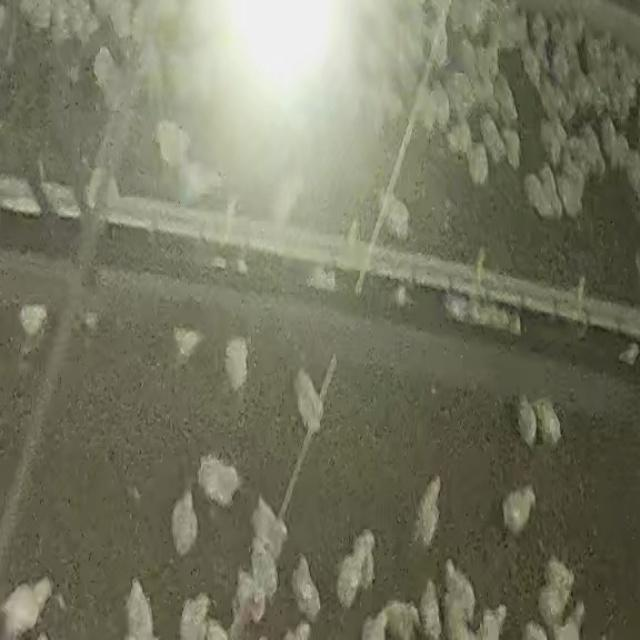chicken: (334, 530, 376, 610), (2, 576, 54, 638), (193, 453, 247, 509), (440, 560, 478, 636), (231, 564, 268, 632), (287, 370, 329, 428), (414, 473, 447, 543), (419, 5, 453, 72), (290, 554, 323, 622), (171, 482, 200, 558), (180, 158, 225, 205), (251, 494, 287, 552), (124, 580, 158, 640), (0, 171, 43, 218), (446, 0, 495, 40), (154, 119, 192, 170), (502, 485, 537, 537), (84, 164, 121, 213), (605, 124, 636, 179), (538, 118, 570, 170), (492, 73, 520, 130), (382, 190, 415, 238), (223, 336, 251, 392), (180, 591, 212, 640), (409, 77, 440, 127), (556, 165, 586, 216), (575, 124, 605, 175), (17, 302, 48, 350), (533, 400, 563, 449), (524, 176, 556, 220), (479, 110, 506, 160), (90, 41, 118, 88), (543, 559, 578, 596), (428, 78, 452, 131), (446, 115, 474, 160), (516, 394, 538, 448), (548, 41, 572, 89), (173, 326, 202, 362), (521, 42, 541, 94), (468, 144, 490, 186), (501, 127, 523, 169)
